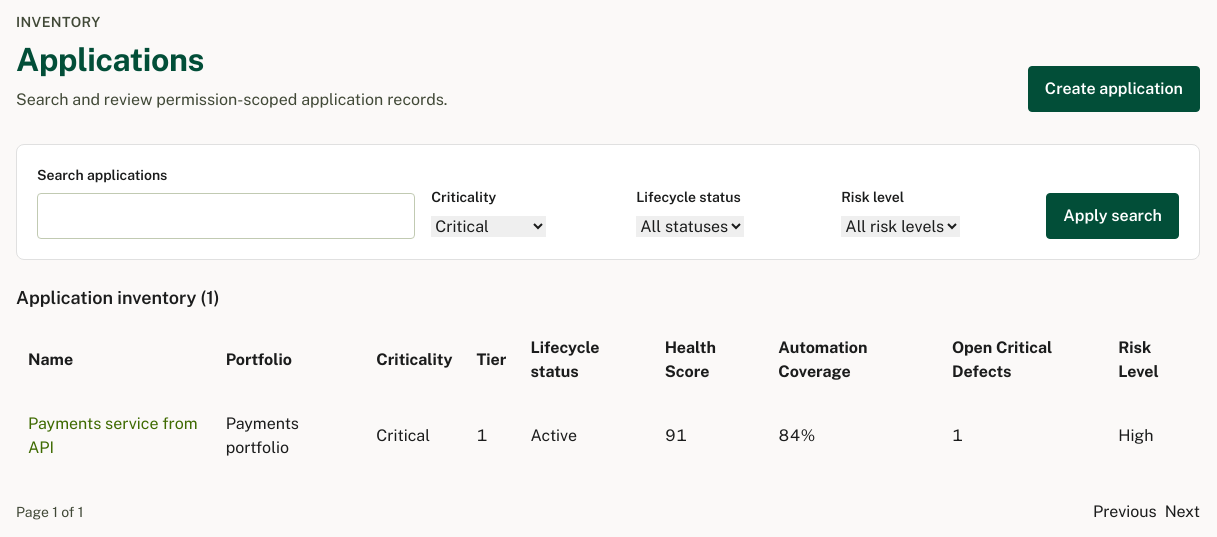
Test: ApplicationsPage › round-trips search state into the API query and renders the filtered empty state
Type "Absent" into the search field labelled "Search applications" at (226, 216), box 37,193 -> 415,239
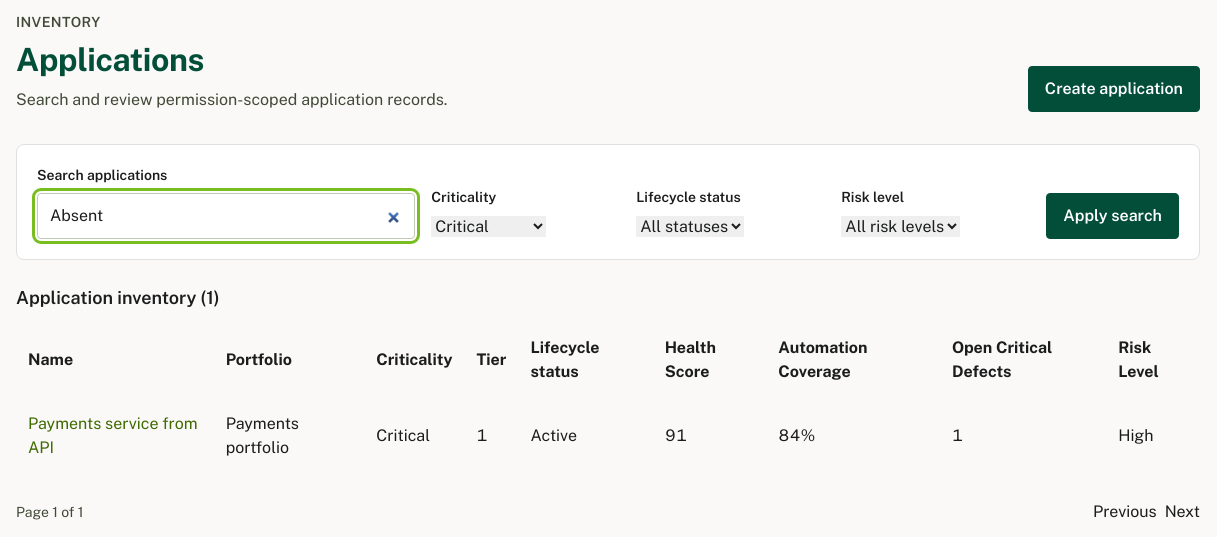
Click the button "Apply search" at (1113, 216), box 1046,193 -> 1179,239
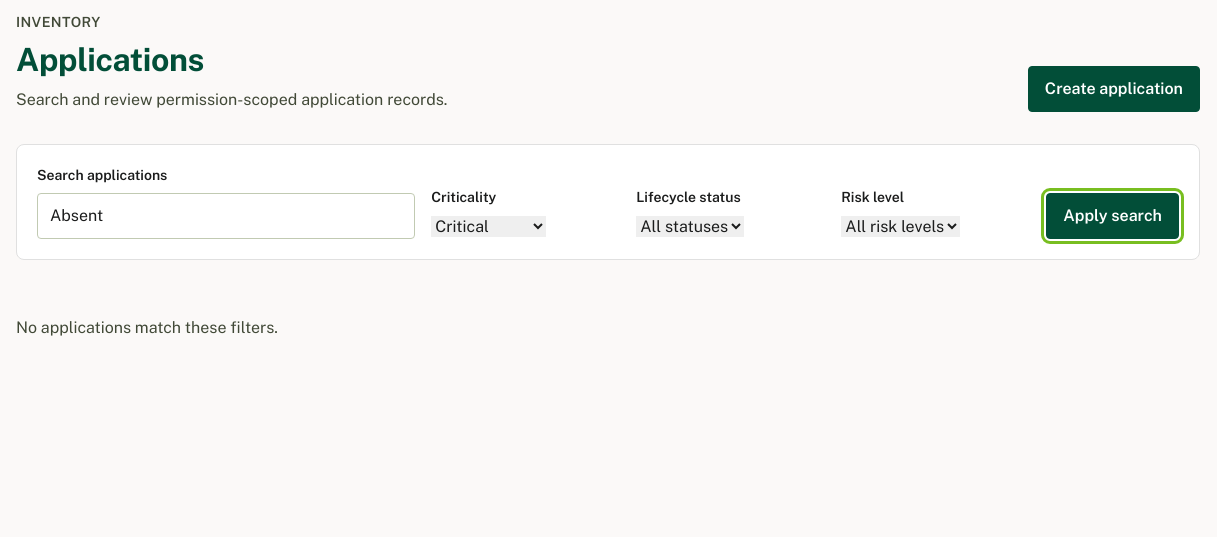
Now the message reads "No applications match these filters.", box 16,318 -> 278,337
